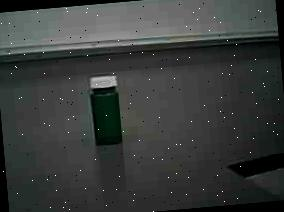Bottle C: (77, 66, 139, 152)
